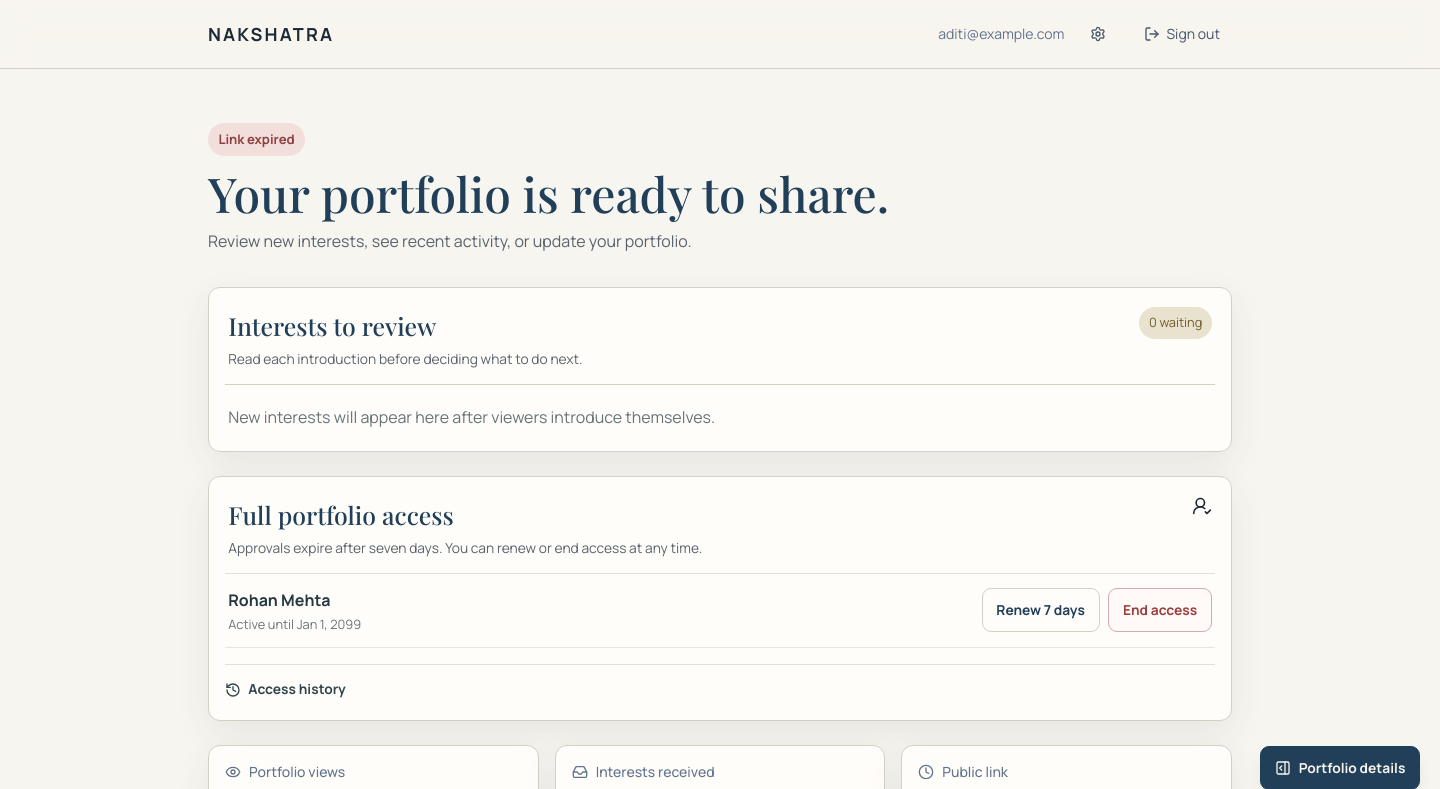
Test: dashboard client › lets the owner renew and revoke Full View access
The image size is (1440, 789).
Check: the text "Active until Jan 1, 2099" is shown, box [228, 615, 361, 633]
Click the button "Renew 7 days": (1041, 610) [982, 588, 1100, 632]
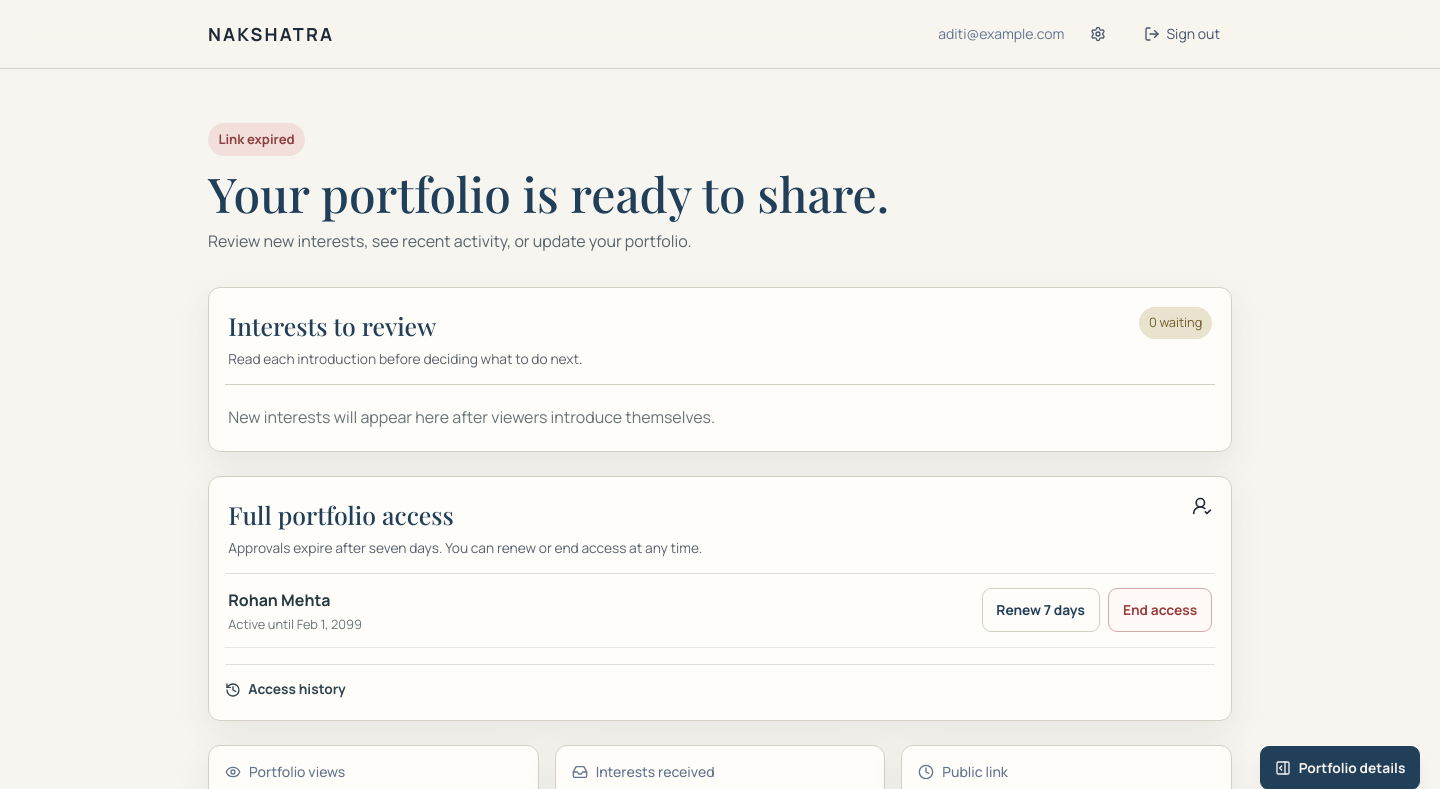
Check: the text "Active until Feb 1, 2099" is shown, box [228, 615, 362, 633]
Click the button "End access": (1160, 610) [1108, 588, 1212, 632]
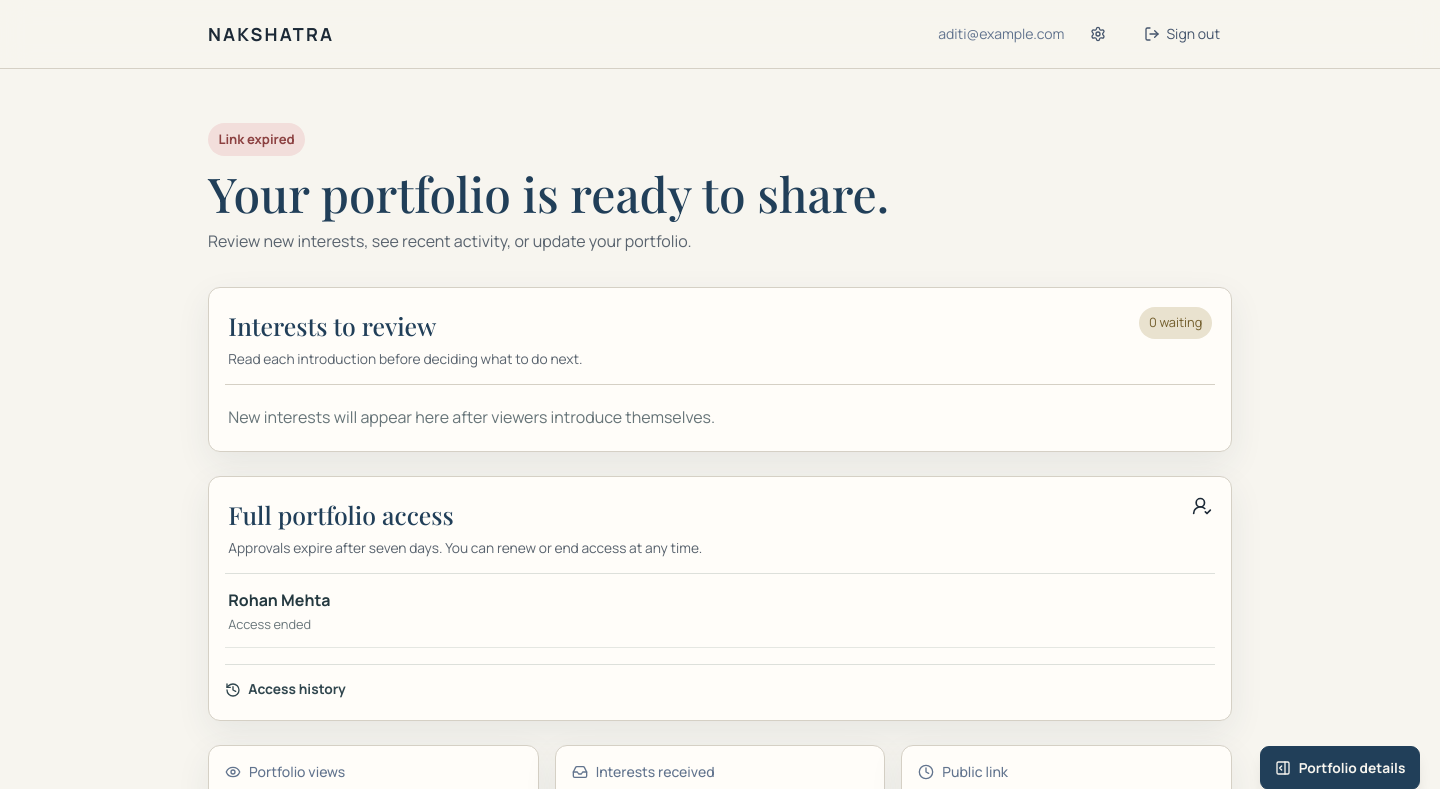
Check: the text "Access ended" is shown, box [228, 615, 311, 633]
Click the heading "Access history": (285, 690) [225, 679, 346, 700]
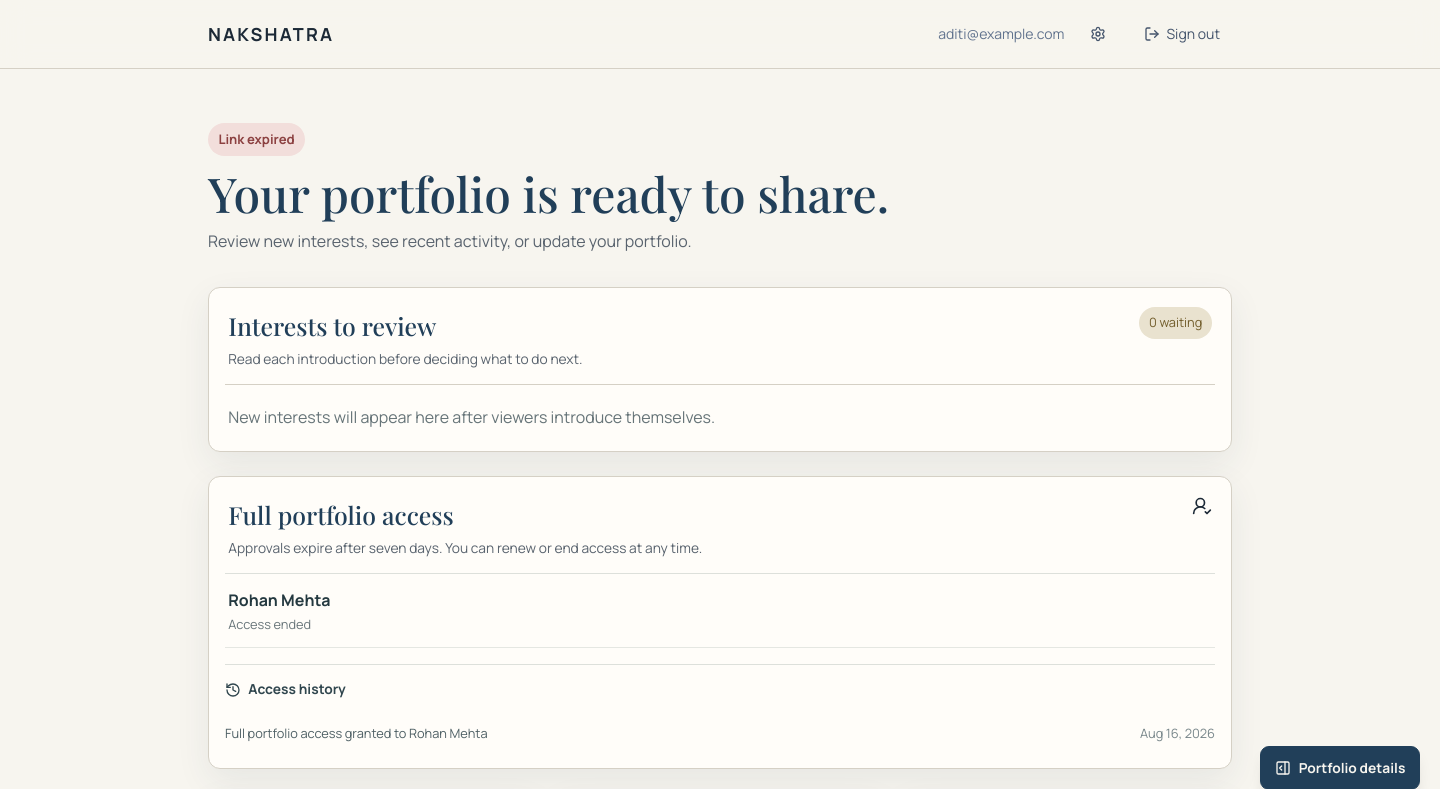
Check: the text "Full portfolio access granted to Rohan Mehta" is shown, box [225, 724, 488, 744]
